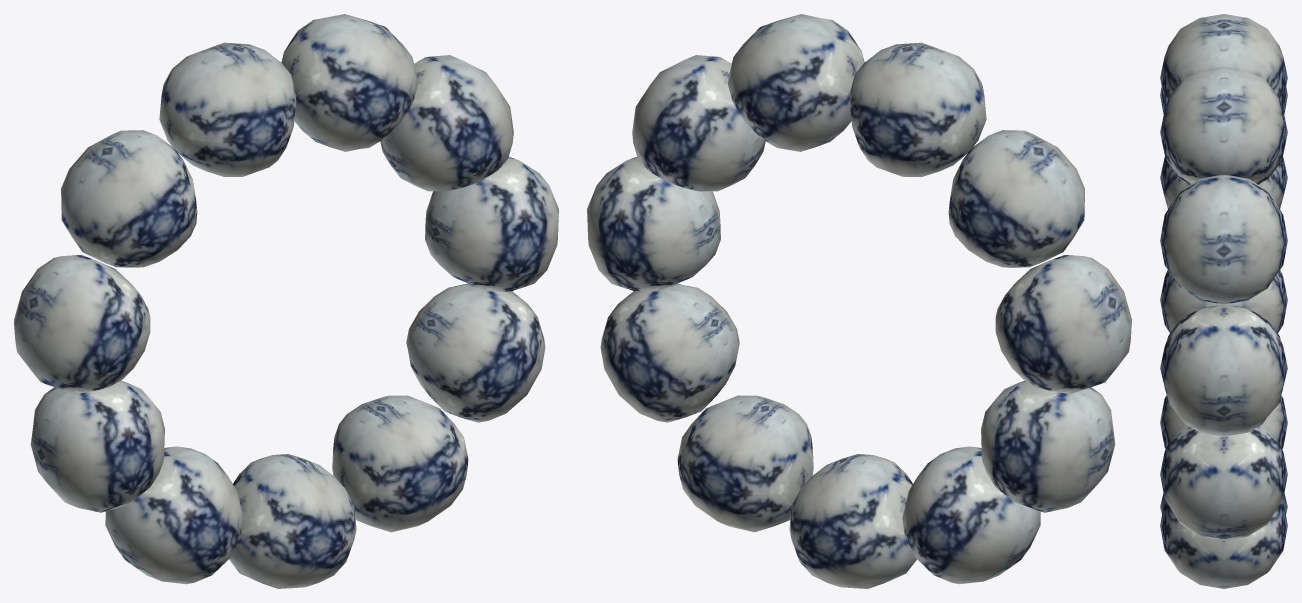
Rendered from bangles_no_name_board.glb.
3 renders of one model, left to right at view 1: azimuth 30°, elevation 25°; view 2: azimuth 150°, elevation 25°; view 3: azimuth 270°, elevation 25°, orthographic. The views are drawn at different scales.
Visible parts, largest first — view 1: all; view 2: all; view 3: all.
Boxes of the visible parts, box(x1,y1,x2,y2) form: all: box(14, 14, 558, 588); all: box(587, 14, 1131, 588); all: box(1160, 14, 1287, 588).
Bounding box in the file's own units: 0.5343 × 0.5308 × 0.1187.
1 material, 1 textured.
